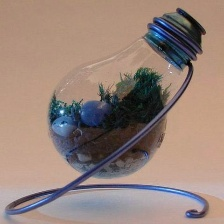light_bulb: (44, 6, 203, 182)
